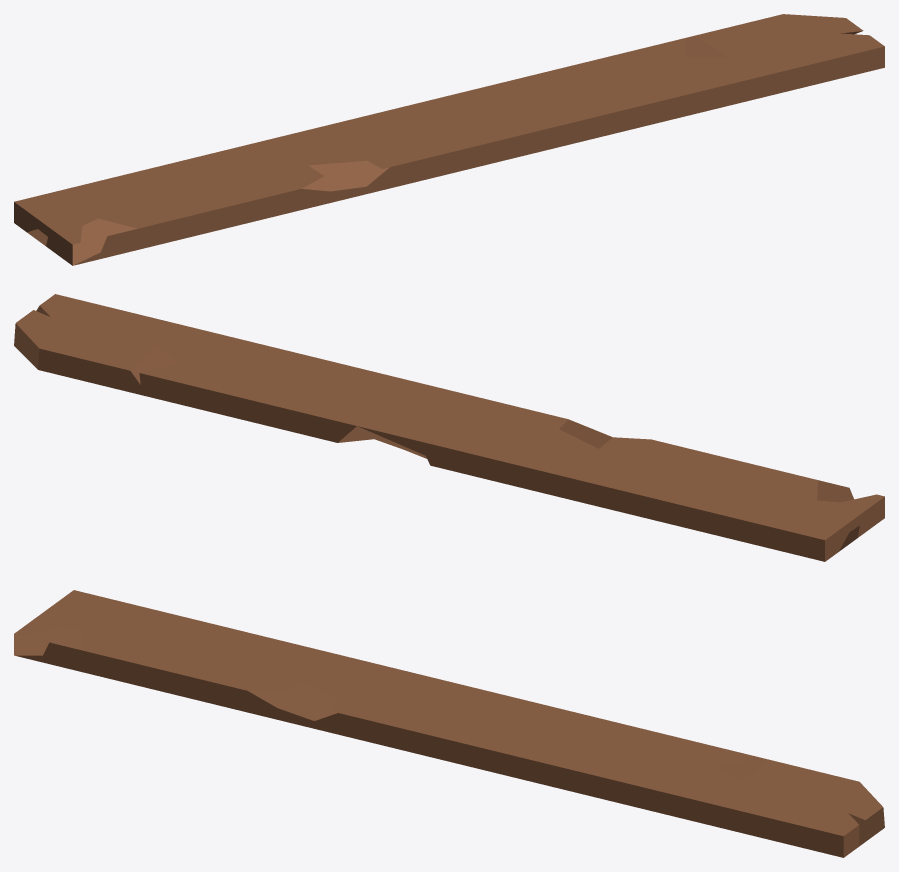
File: Asse.fbx
3 renders of one model, top to bottom at view 1: azimuth 30°, elevation 25°; view 2: azimuth 150°, elevation 25°; view 3: azimuth 330°, elevation 25°, orthographic. The views are drawn at different scales.
Visible parts, largest first — view 1: Asse; view 2: Asse; view 3: Asse.
Boxes of the visible parts, box(x1,y1,x2,y2) form: Asse: box(14, 14, 884, 265); Asse: box(14, 294, 884, 561); Asse: box(14, 590, 884, 857).
Size of the model in its own units: 120 by 3 by 15.
